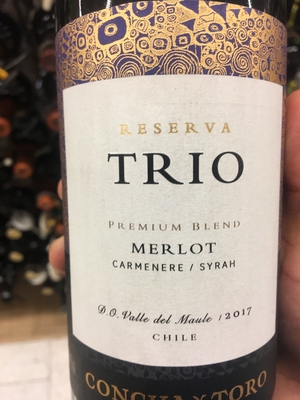trio merlot: (56, 5, 286, 400)
